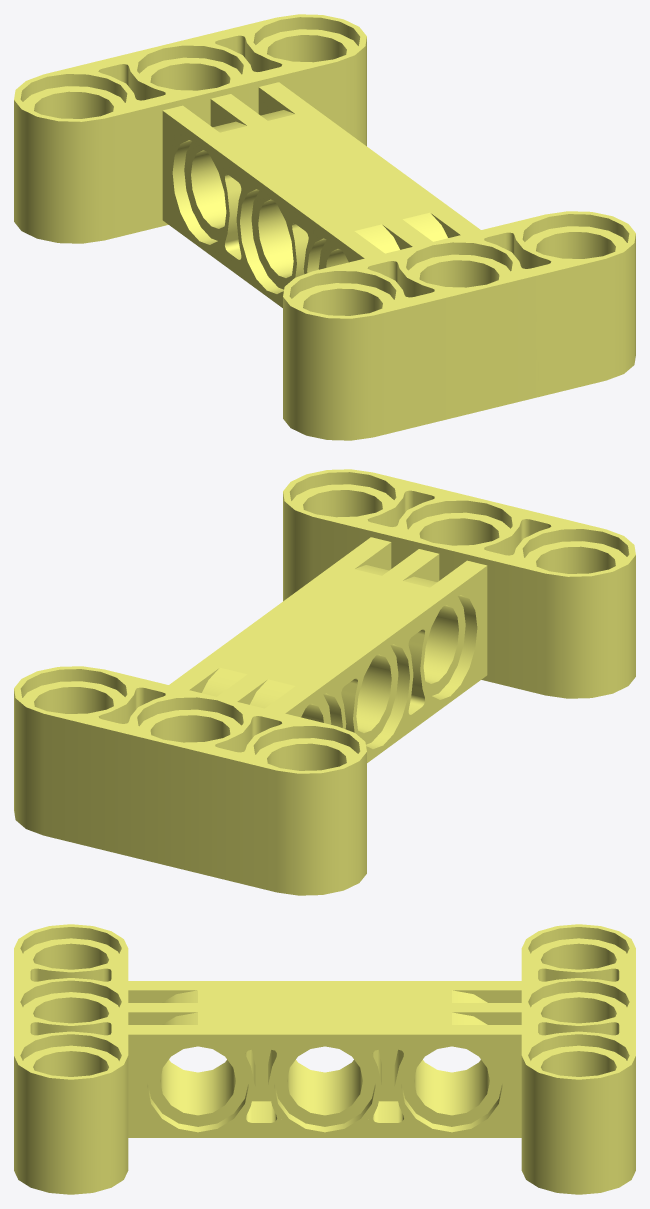
3 renders of one model, top to bottom at view 1: azimuth 30°, elevation 25°; view 2: azimuth 150°, elevation 25°; view 3: azimuth 270°, elevation 25°, orthographic. The views are drawn at different scales.
Visible parts, largest first — view 1: 32523.dat (×2), 14720.dat; view 2: 32523.dat (×2), 14720.dat; view 3: 32523.dat (×2), 14720.dat.
Part boxes in pixels (left/top/right/bottom): 32523.dat (×2): left=14, top=14, right=635, bottom=440; 14720.dat: left=162, top=82, right=480, bottom=307; 32523.dat (×2): left=14, top=469, right=635, bottom=895; 14720.dat: left=169, top=537, right=487, bottom=762; 32523.dat (×2): left=14, top=924, right=635, bottom=1194; 14720.dat: left=128, top=981, right=521, bottom=1137.
Size of the model in its own units: 0.0232 by 0.008 by 0.0392.
